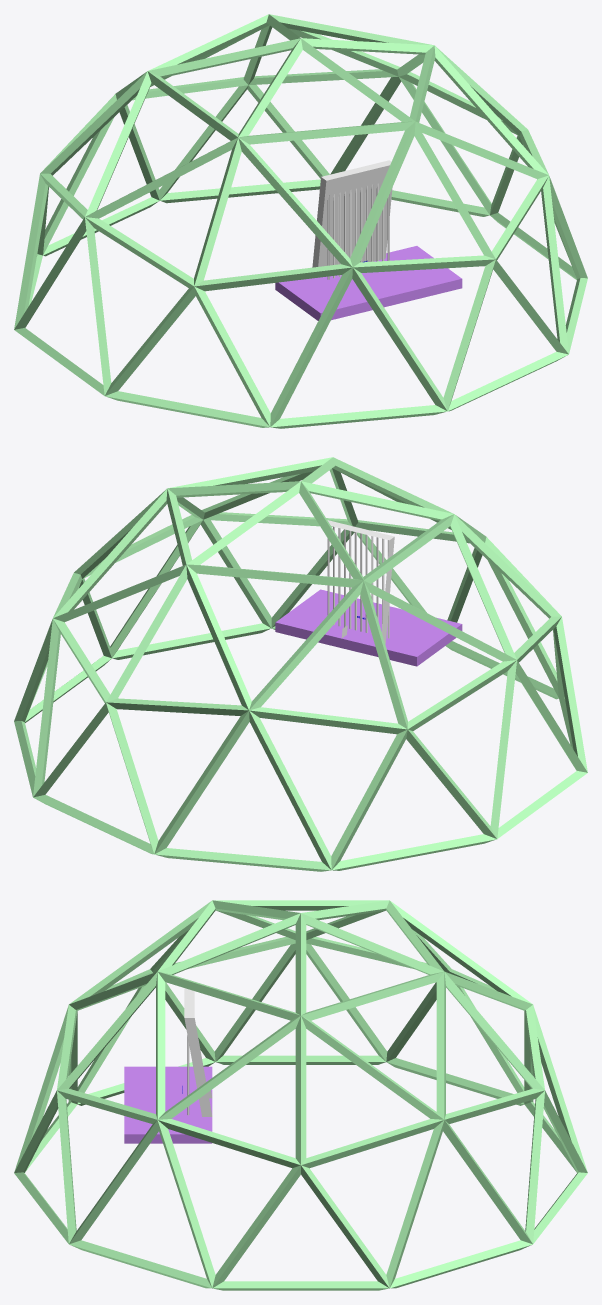
The model's file is SP_index4.glb.
3 renders of one model, top to bottom at view 1: azimuth 30°, elevation 25°; view 2: azimuth 150°, elevation 25°; view 3: azimuth 270°, elevation 25°, orthographic. The views are drawn at different scales.
Visible parts, largest first — view 1: Icosphere, Facade, Floor; view 2: Icosphere, Floor, Facade; view 3: Icosphere, Floor, Facade.
Part boxes in pixels (box(x1,y1,x2,y2)): Icosphere: box(14, 14, 587, 428); Facade: box(312, 160, 392, 279); Floor: box(275, 246, 462, 320); Icosphere: box(14, 457, 587, 871); Floor: box(275, 589, 462, 666); Facade: box(327, 520, 394, 643); Icosphere: box(14, 900, 587, 1290); Floor: box(124, 1066, 212, 1143); Facade: box(184, 988, 212, 1116).
Size of the model in its own units: 105 by 56.44 by 111.
